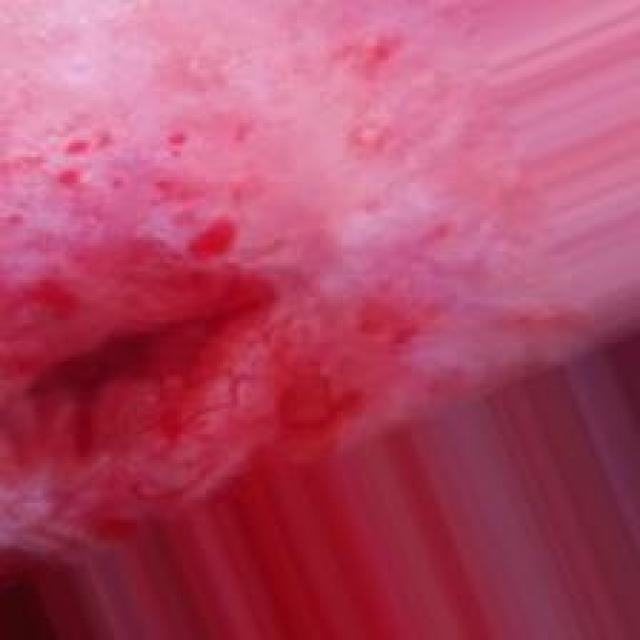type-1: (0, 0, 533, 524)
